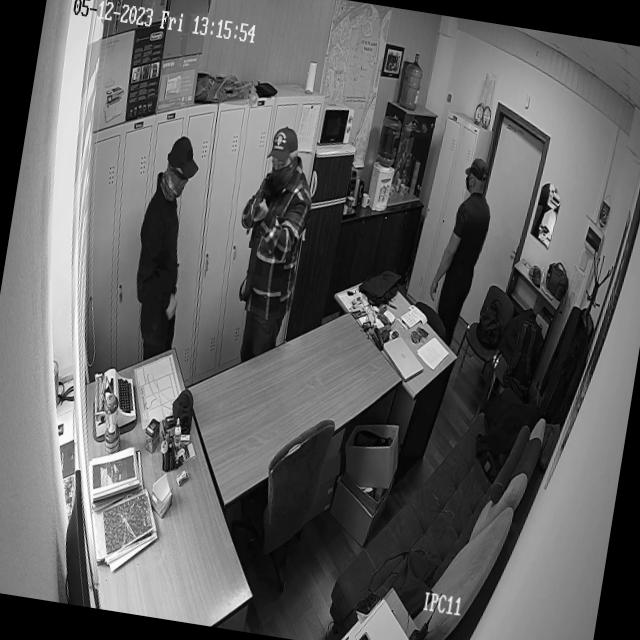gun: (243, 170, 274, 241)
person: (123, 128, 207, 364), (424, 154, 499, 340)
person with a gun: (219, 125, 322, 362)
